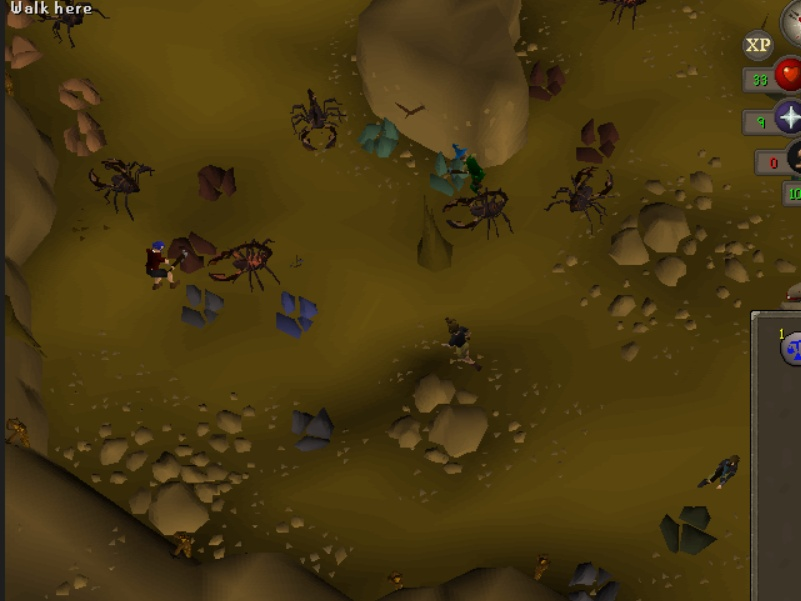adamant: (352, 110, 407, 164), (421, 143, 476, 197)
coal: (654, 494, 731, 565)
copper: (59, 104, 110, 159), (53, 68, 105, 117), (1, 27, 45, 74), (1, 1, 47, 32)
iron: (572, 117, 626, 171), (191, 159, 245, 204), (166, 229, 220, 274), (519, 57, 573, 102)
mithril: (270, 286, 328, 344)
